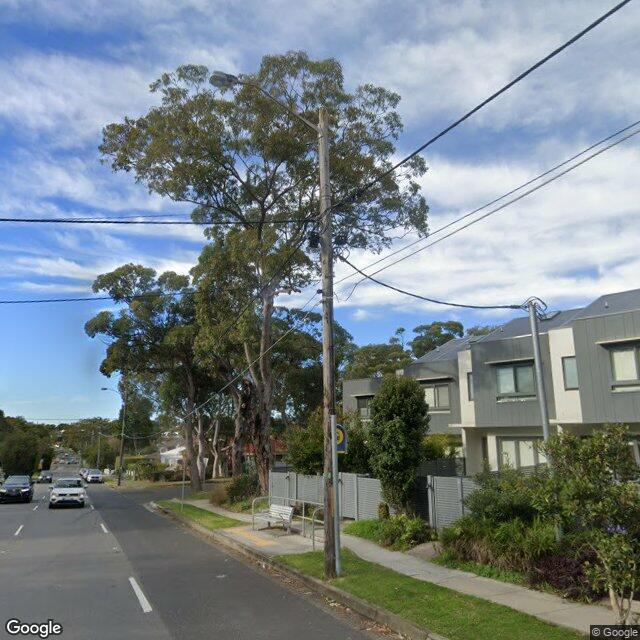steel-pole: (529, 302, 553, 467)
streetlight: (210, 70, 321, 132), (101, 387, 125, 402)
timber-pole: (320, 108, 341, 579), (117, 384, 128, 486)
